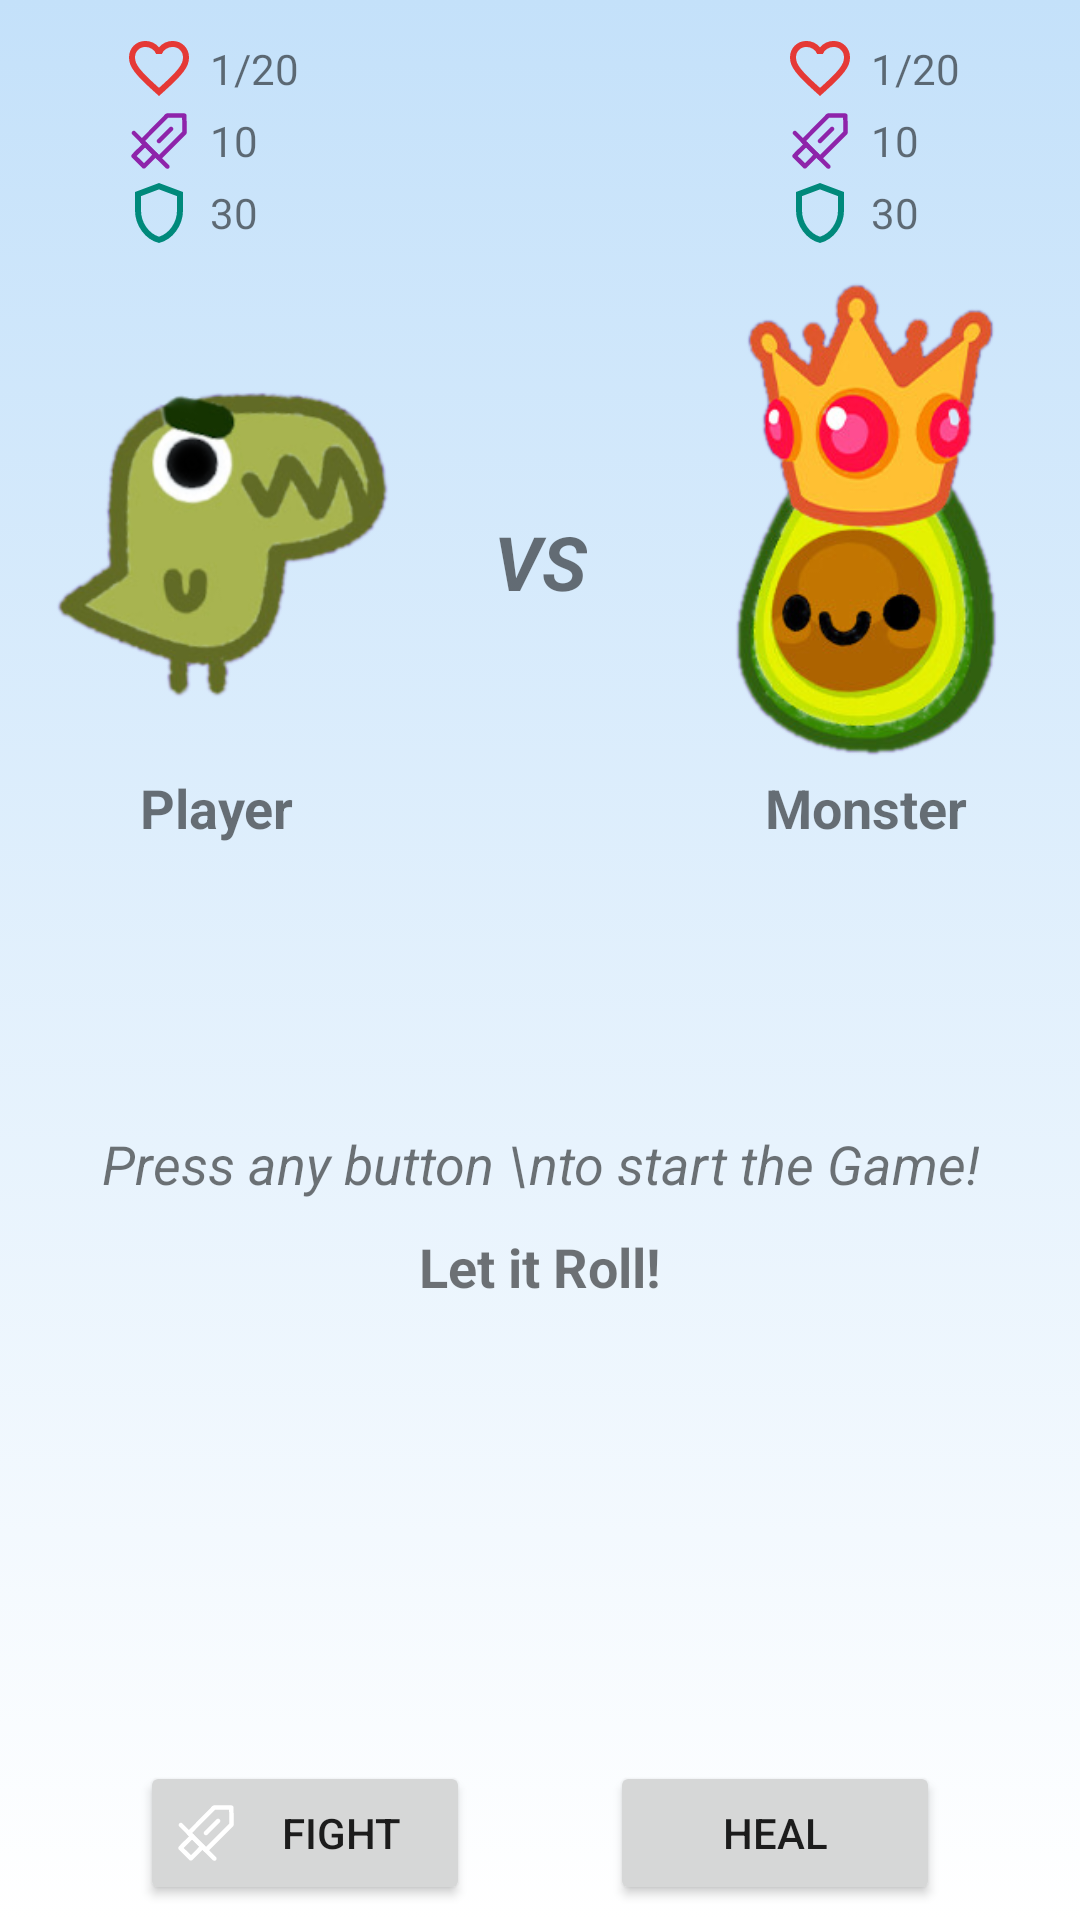

Named icons in this screenshot (1080 × 1920) and their bounding boxes, box=[x1, y1, x2, y2]:
health: box=[129, 41, 189, 96], box=[790, 41, 850, 96]
shield: box=[135, 183, 183, 243], box=[796, 183, 844, 243]
sword: box=[131, 113, 187, 169], box=[792, 113, 848, 169]
